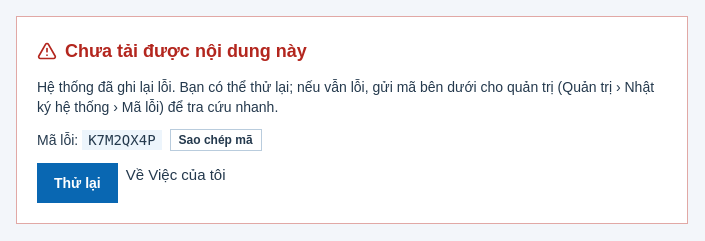
ErrorPanel › Sao chép mã đưa mã vào clipboard và báo đã sao chép
Step 1. Click the button "Sao chép mã" → [216, 140], box [170,129,262,151]
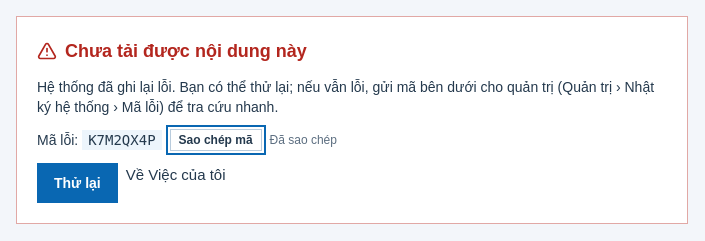
Expected: the text "Đã sao chép" is shown, [270,132,337,148]
